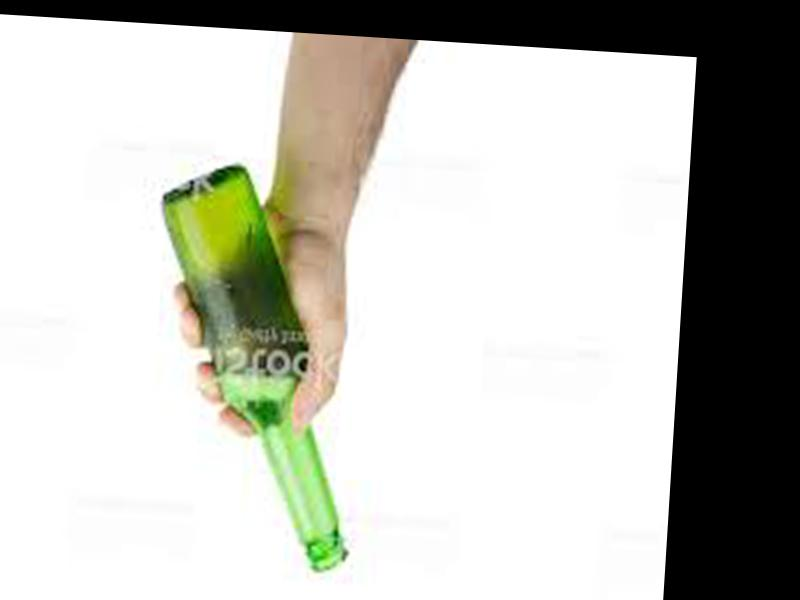Beer: (138, 165, 372, 577)
